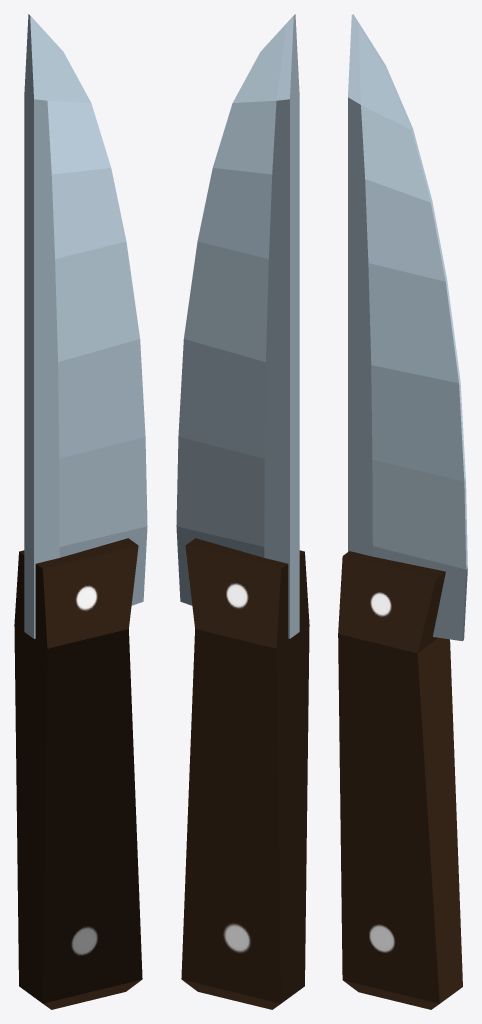
File: Kitchen Knife.obj
3 renders of one model, left to right at view 1: azimuth 30°, elevation 25°; view 2: azimuth 150°, elevation 25°; view 3: azimuth 330°, elevation 25°, orthographic. The views are drawn at different scales.
Parts seen in each view (by area): view 1: Cube.005; view 2: Cube.005; view 3: Cube.005.
Boxes of the visible parts, <box> form: Cube.005: <box>14,14,147,1009</box>; Cube.005: <box>176,14,309,1009</box>; Cube.005: <box>338,14,467,1009</box>.
Bounding box in the file's own units: 0.0368 × 0.2977 × 0.0179.
2 materials, 1 textured.
